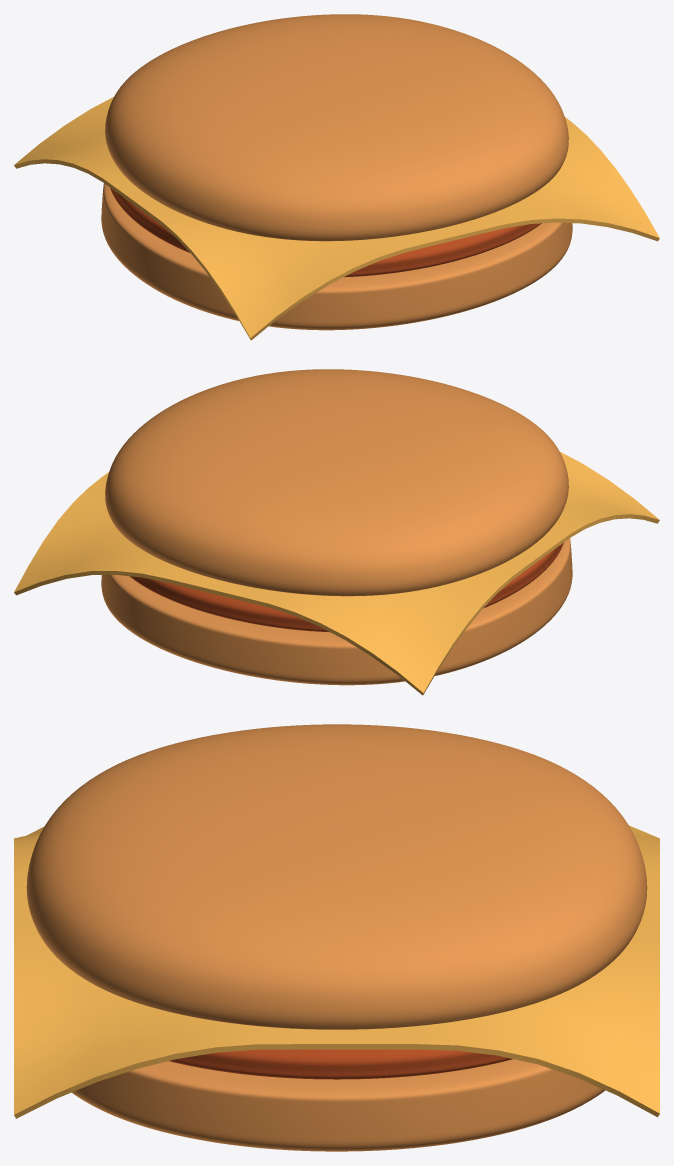
The model's file is star-scene.glb.
The picture shows the model from 3 angles, top to bottom: view 1: azimuth 30°, elevation 25°; view 2: azimuth 150°, elevation 25°; view 3: azimuth 270°, elevation 25°; orthographic projection. The views are drawn at different scales.
Visible parts, largest first — view 1: 立方体.003, 平面, 立方体, 立方体.002; view 2: 立方体.003, 平面, 立方体, 立方体.002; view 3: 立方体.003, 平面, 立方体, 立方体.002.
Boxes of the visible parts, x1,y1,x2,y2 form: 立方体.003: [105, 14, 568, 241]; 平面: [14, 97, 659, 340]; 立方体: [101, 183, 572, 330]; 立方体.002: [110, 188, 541, 277]; 立方体.003: [105, 369, 568, 596]; 平面: [14, 452, 659, 695]; 立方体: [101, 538, 572, 685]; 立方体.002: [130, 543, 563, 632]; 立方体.003: [26, 724, 647, 1029]; 平面: [14, 825, 659, 1118]; 立方体: [71, 1059, 604, 1151]; 立方体.002: [169, 1049, 512, 1079].
Bounding box in the file's own units: 9.57 × 3.74 × 9.57.
